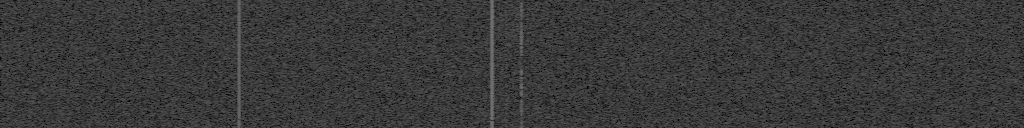wv_am: (236, 0, 242, 119), (236, 120, 242, 128)
wv_cw: (489, 0, 495, 120), (489, 121, 495, 128)
wv_lsb: (490, 1, 496, 128), (519, 1, 524, 128)
wv_usb: (504, 7, 509, 57), (504, 62, 509, 78), (504, 98, 509, 111), (504, 87, 508, 97), (504, 119, 508, 128), (504, 112, 509, 116), (504, 79, 508, 82), (504, 58, 508, 61), (504, 1, 508, 4)
